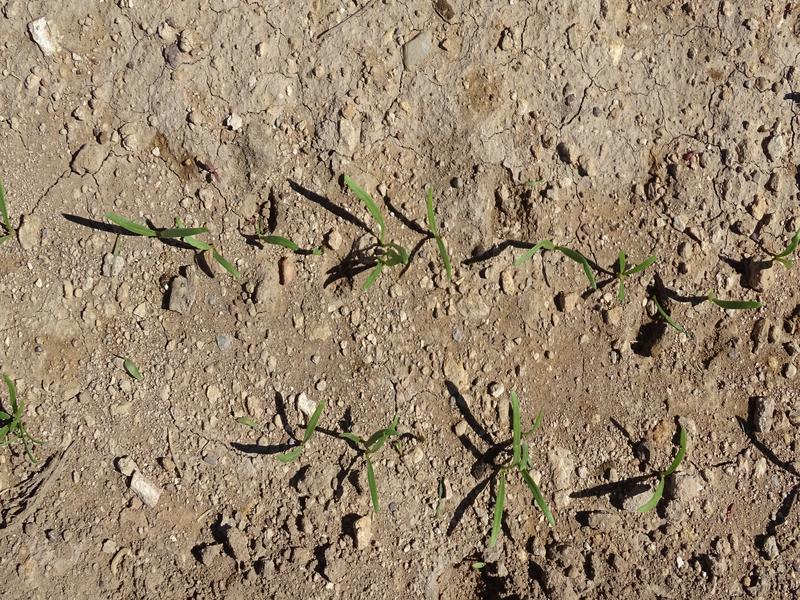Espinaca: (482, 391, 555, 548), (342, 177, 400, 287), (630, 423, 692, 515), (515, 236, 603, 287), (346, 422, 391, 509), (280, 397, 333, 464), (105, 211, 210, 244), (423, 194, 459, 279), (4, 382, 43, 460), (190, 237, 248, 280), (612, 254, 654, 301), (709, 294, 764, 315), (259, 232, 306, 254)
